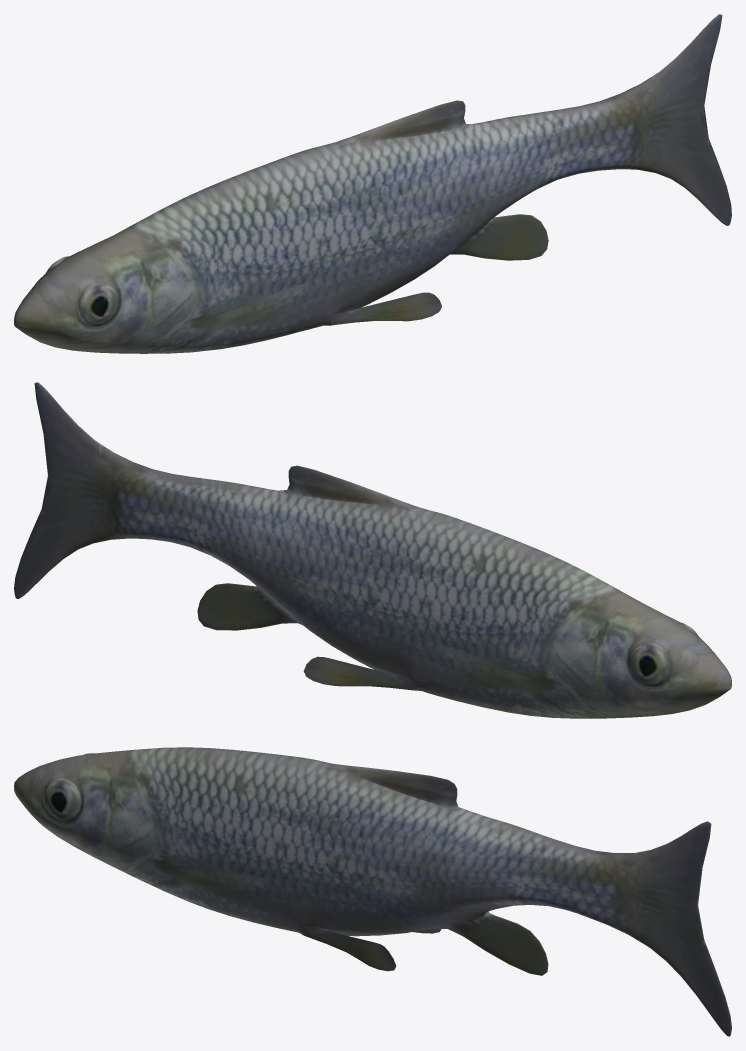
Rendered from ukleja.obj.
The picture shows the model from 3 angles, top to bottom: view 1: azimuth 30°, elevation 25°; view 2: azimuth 150°, elevation 25°; view 3: azimuth 330°, elevation 25°; orthographic projection.
Visible parts, largest first — view 1: ukleja; view 2: ukleja; view 3: ukleja.
Boxes of the visible parts, x1,y1,x2,y2 form: ukleja: (14, 14, 731, 353); ukleja: (14, 382, 731, 718); ukleja: (14, 747, 731, 1036).
Bounding box in the file's own units: 0.1505 × 0.0437 × 0.0175.
Materials: 1 (1 with a texture image).
